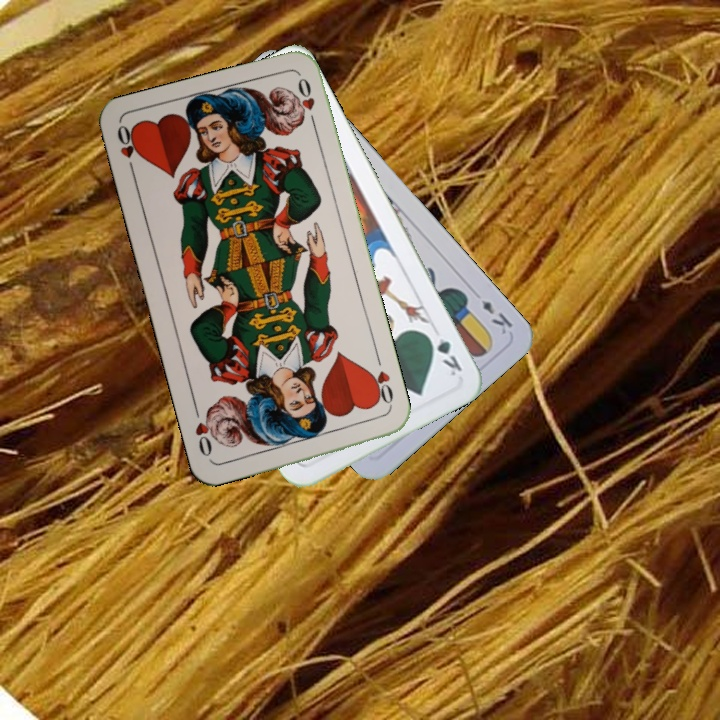EK: (477, 296, 515, 337)
GK: (422, 329, 465, 379)
HO: (364, 353, 396, 412), (113, 121, 143, 180)
